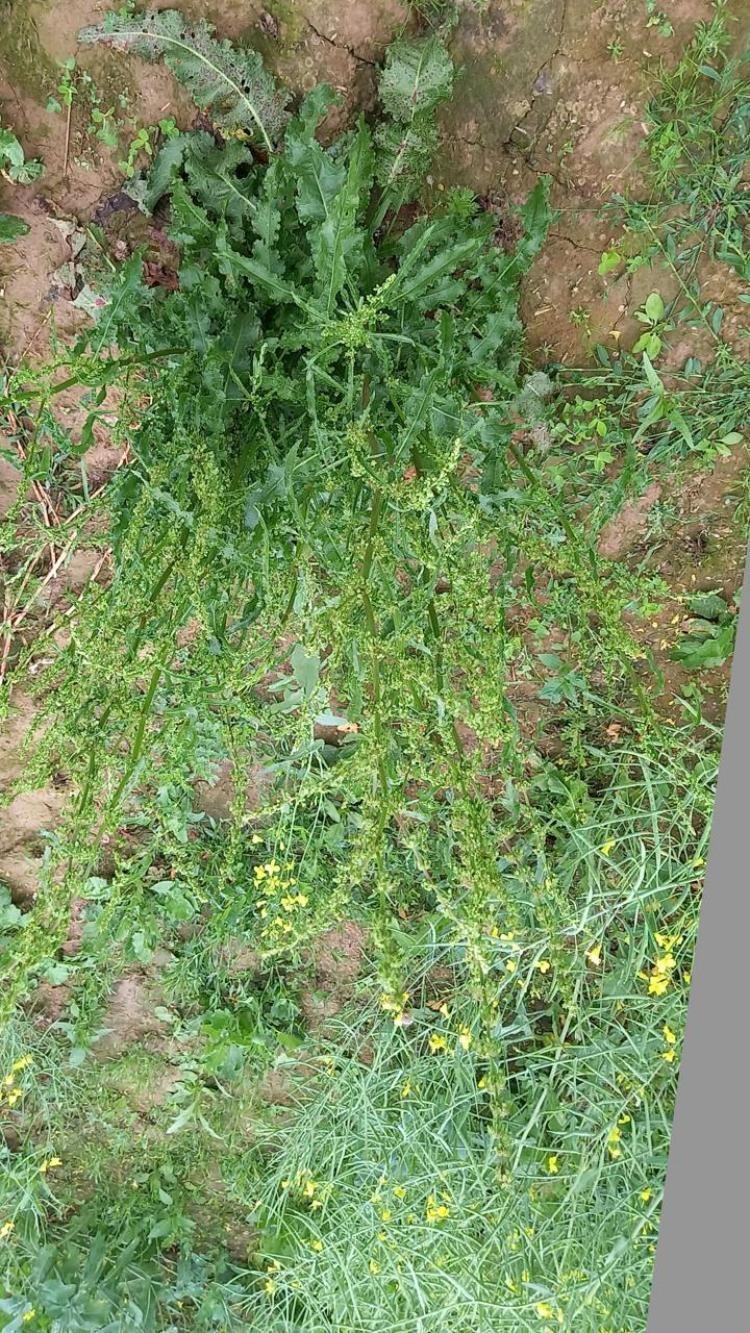zhavel: (0, 0, 529, 883)
